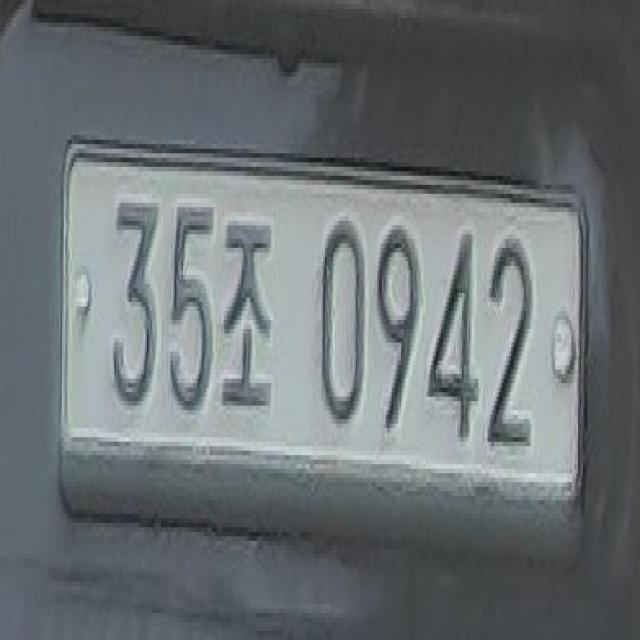0: (317, 216, 367, 424)
2: (485, 234, 534, 460)
3: (110, 185, 164, 419)
4: (424, 221, 480, 442)
5: (168, 189, 219, 424)
9: (377, 216, 421, 428)
jo: (219, 207, 274, 419)
license_plate: (63, 135, 584, 500)
